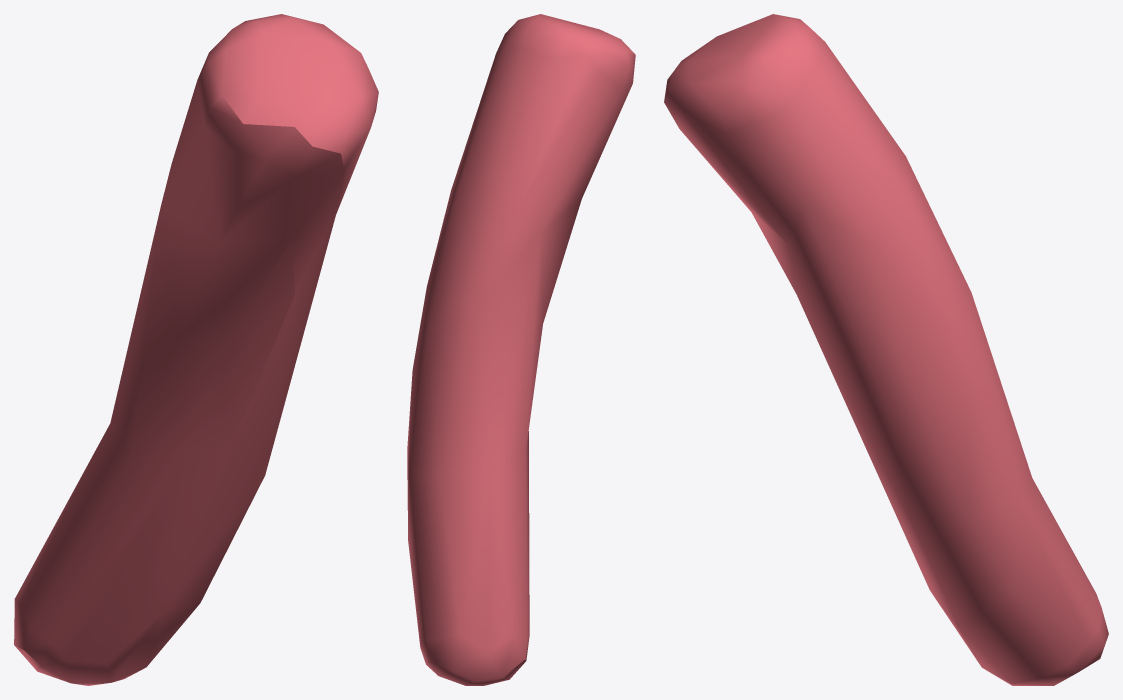
The model's file is fma18887_fj3608.glb.
3 views of the same model, side by side, from view 1: azimuth 30°, elevation 25°; view 2: azimuth 150°, elevation 25°; view 3: azimuth 270°, elevation 25° (orthographic). The views are drawn at different scales.
Parts seen in each view (by area): view 1: FMA18887_FJ3608; view 2: FMA18887_FJ3608; view 3: FMA18887_FJ3608.
Boxes of the visible parts, x1,y1,x2,y2 form: FMA18887_FJ3608: [14, 14, 378, 685]; FMA18887_FJ3608: [407, 14, 635, 685]; FMA18887_FJ3608: [664, 14, 1108, 685].
Bounding box in the file's own units: 0.00654 × 0.0237 × 0.0142.
